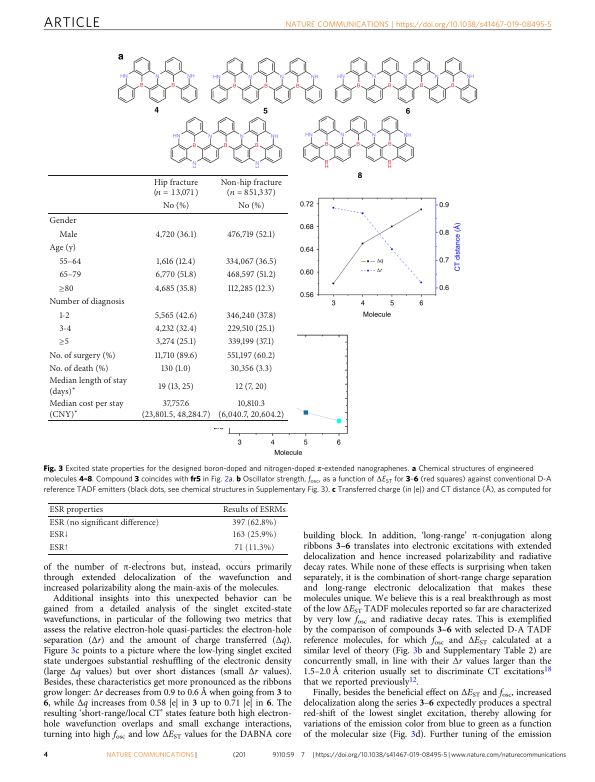borderless: (46, 173, 288, 420), (46, 501, 288, 554)
cell: (48, 375, 128, 397), (48, 398, 124, 420), (141, 398, 211, 420), (217, 398, 285, 420), (220, 177, 283, 200), (48, 518, 160, 528), (153, 177, 199, 200), (48, 296, 126, 307), (48, 350, 116, 360), (48, 363, 109, 374), (222, 505, 287, 515), (225, 256, 278, 267), (225, 310, 277, 321), (48, 505, 104, 515), (226, 229, 276, 240), (227, 323, 276, 334), (226, 270, 277, 280), (226, 350, 276, 360), (154, 229, 198, 240), (154, 310, 198, 321), (154, 323, 198, 334), (229, 363, 273, 374), (227, 283, 275, 293), (227, 337, 275, 347), (233, 542, 275, 553), (231, 518, 277, 528), (231, 530, 277, 540), (156, 256, 196, 267), (154, 283, 198, 293), (154, 350, 198, 360), (155, 270, 197, 280), (155, 337, 197, 347), (157, 381, 195, 391), (160, 363, 192, 374), (48, 215, 78, 226), (235, 381, 268, 391), (48, 242, 77, 253), (162, 201, 190, 211), (237, 201, 265, 211), (58, 256, 82, 267), (48, 542, 70, 553), (58, 270, 82, 280), (58, 280, 74, 295), (48, 530, 70, 540), (58, 229, 78, 240), (58, 333, 70, 349), (58, 323, 72, 334), (58, 310, 70, 321)
